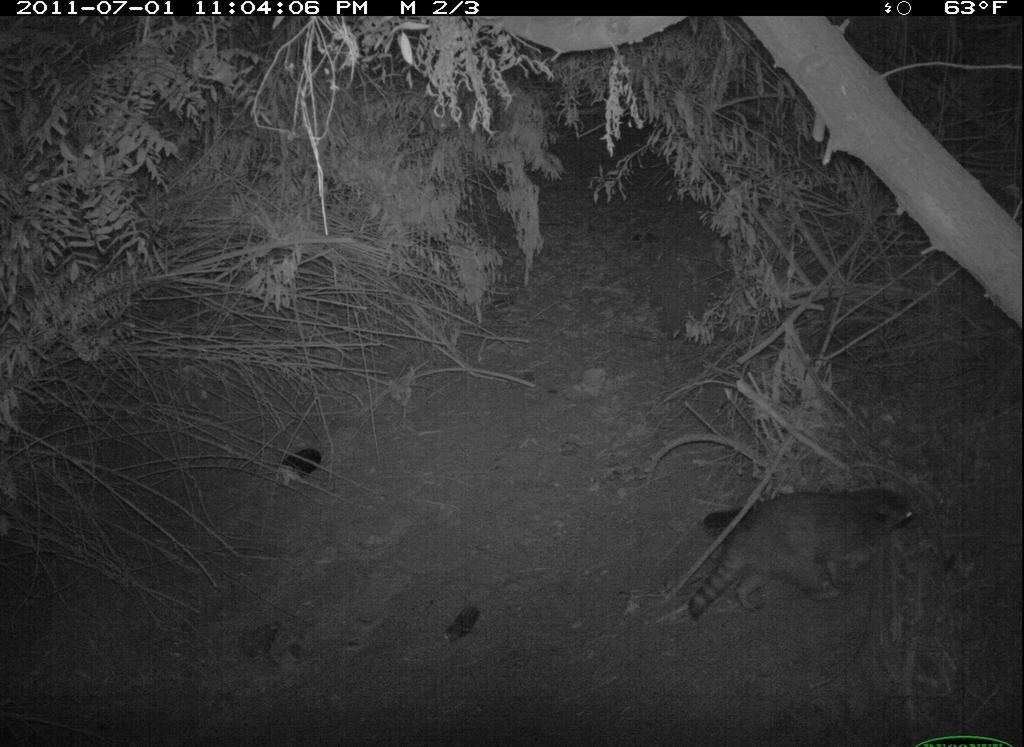raccoon: (678, 482, 941, 641)
